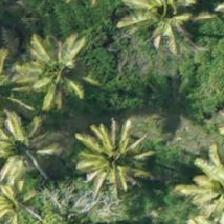coconut_tree: (16, 28, 106, 118), (71, 113, 161, 203), (0, 104, 66, 194), (119, 0, 209, 60)
